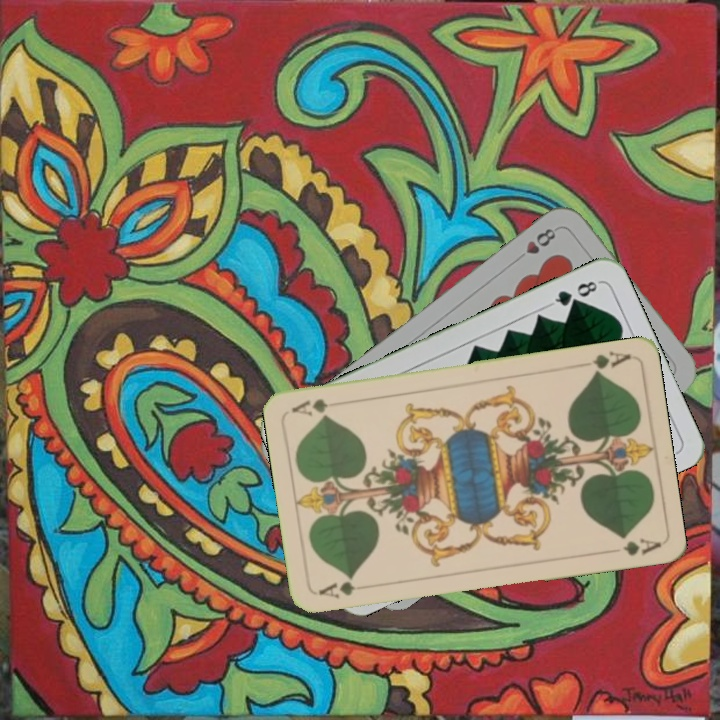G8: (547, 277, 603, 309)
GA: (574, 347, 633, 378), (314, 573, 358, 601)
H8: (521, 223, 560, 257)
